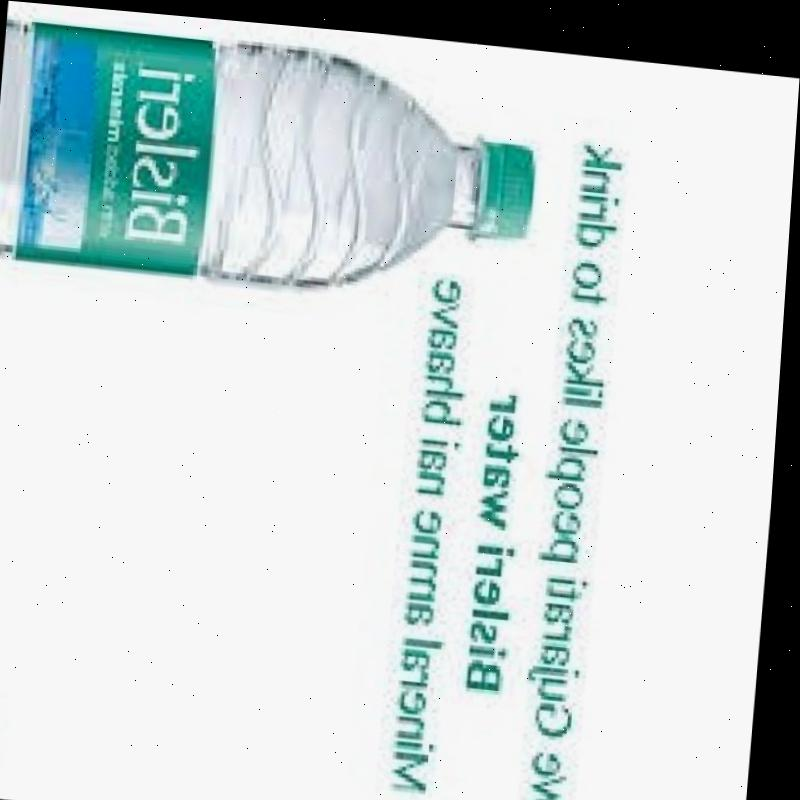botella: (0, 17, 544, 306)
